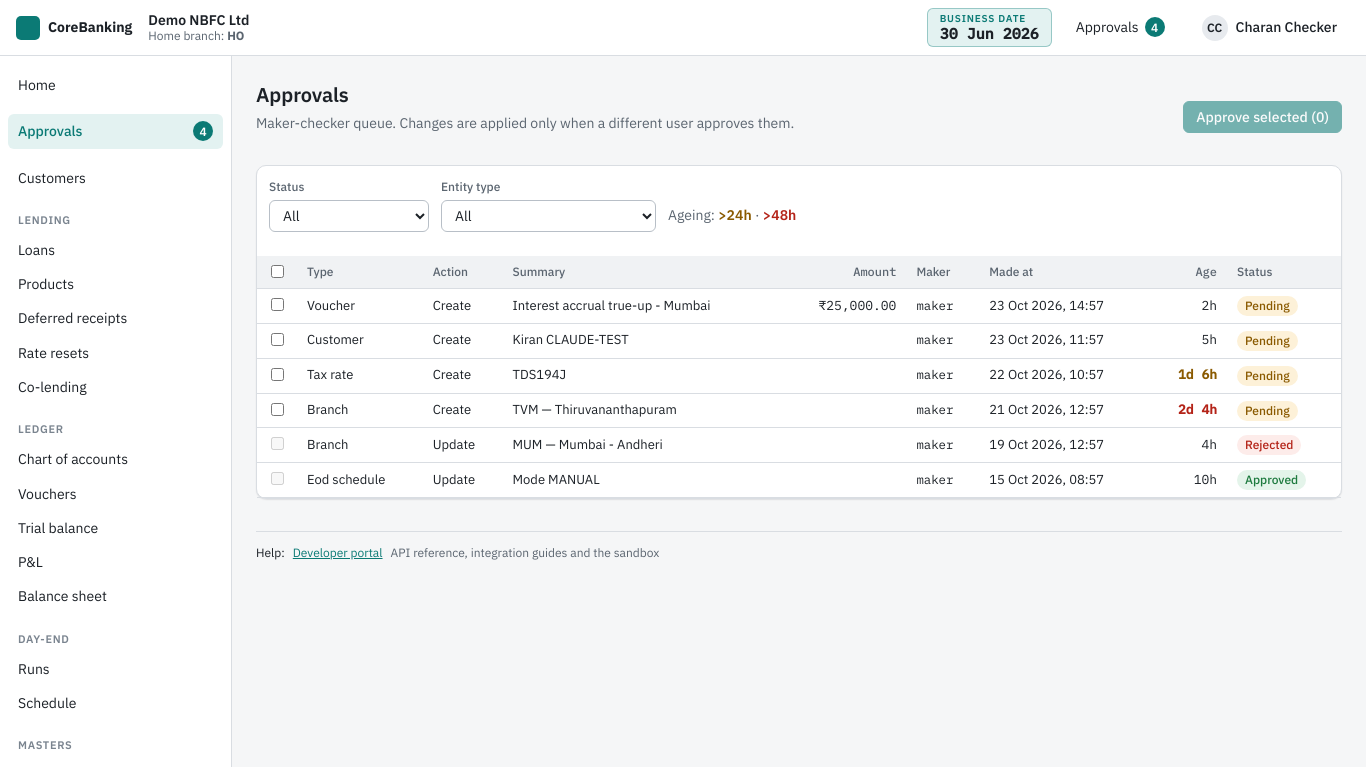
Test: approvals queue › requires a note to reject and highlights changed fields in the diff
Click the row named "Branch Update request by maker" at (799, 445), box top-left (257, 428), bottom-right (1341, 463)
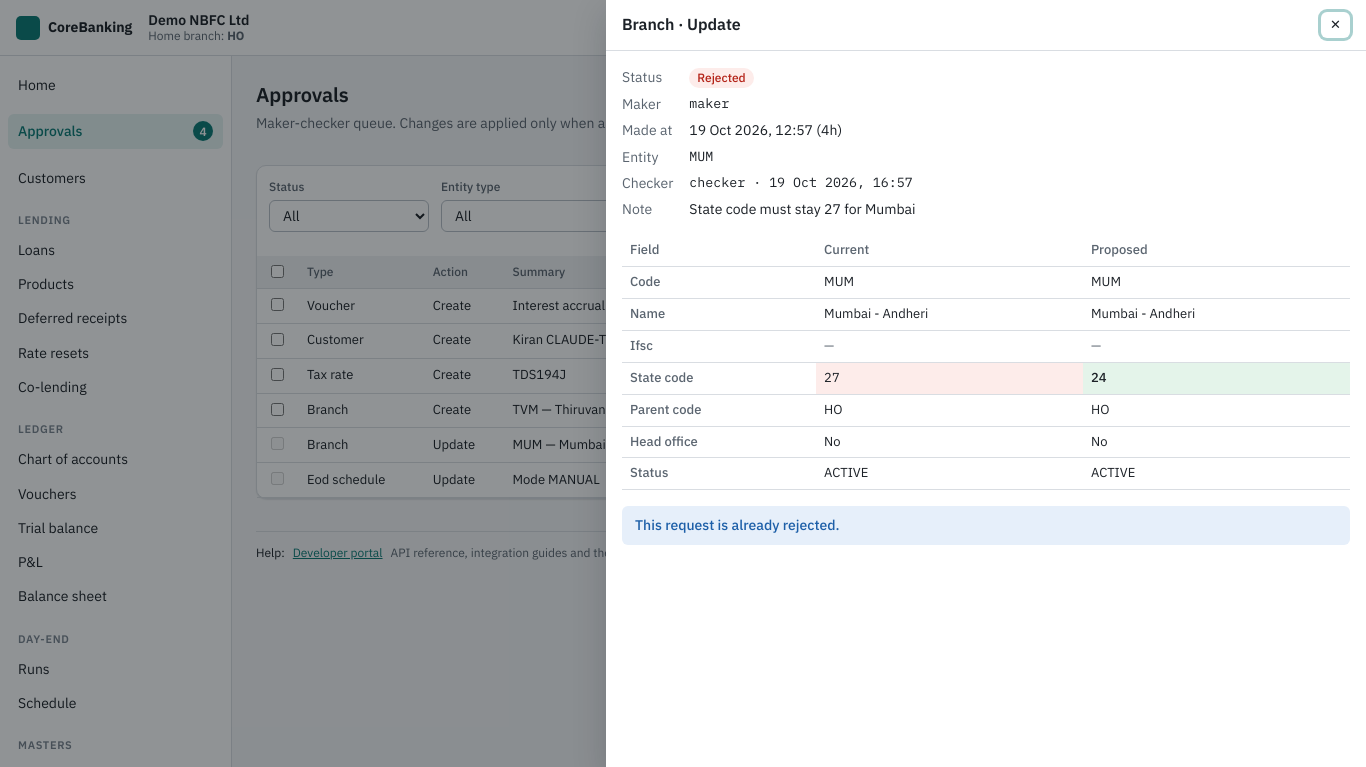
Press Escape
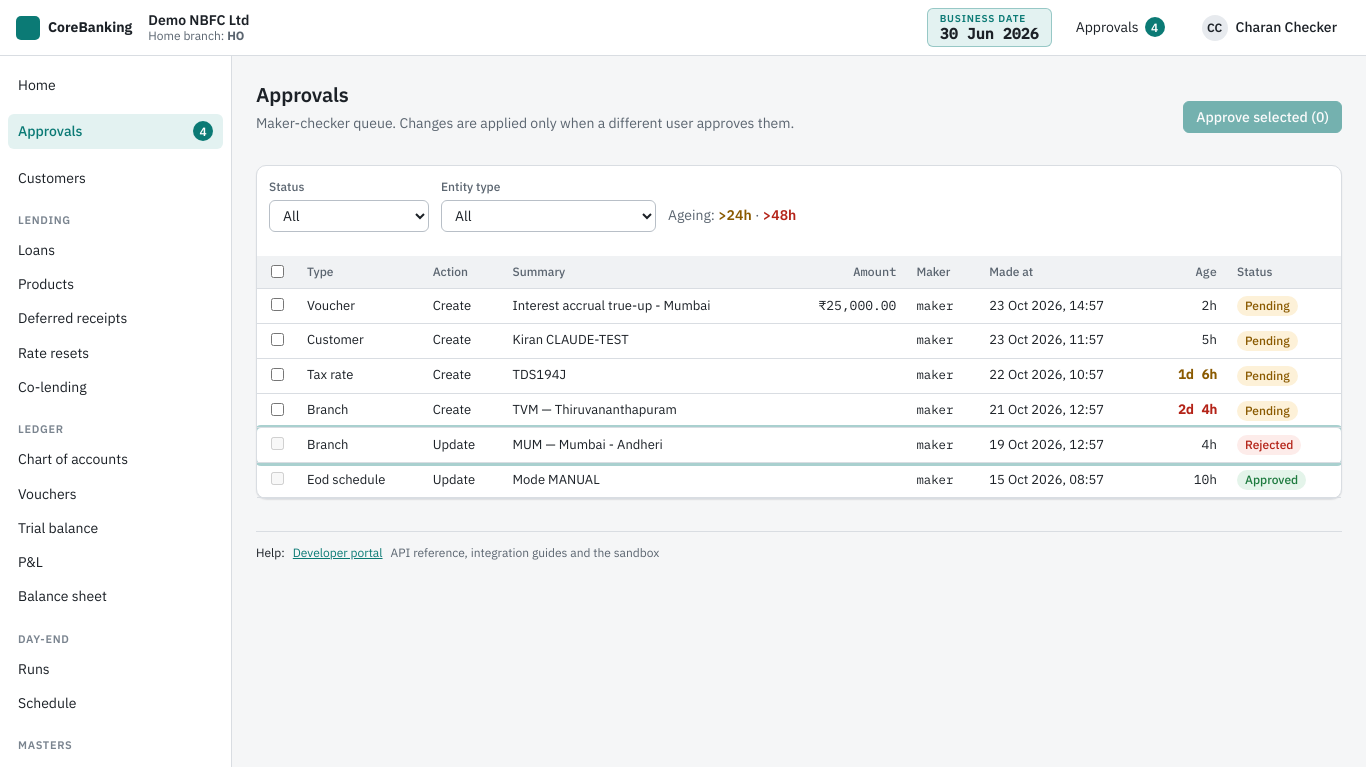
Click the row named "Branch Create request by maker" at (799, 410), box top-left (257, 393), bottom-right (1341, 428)
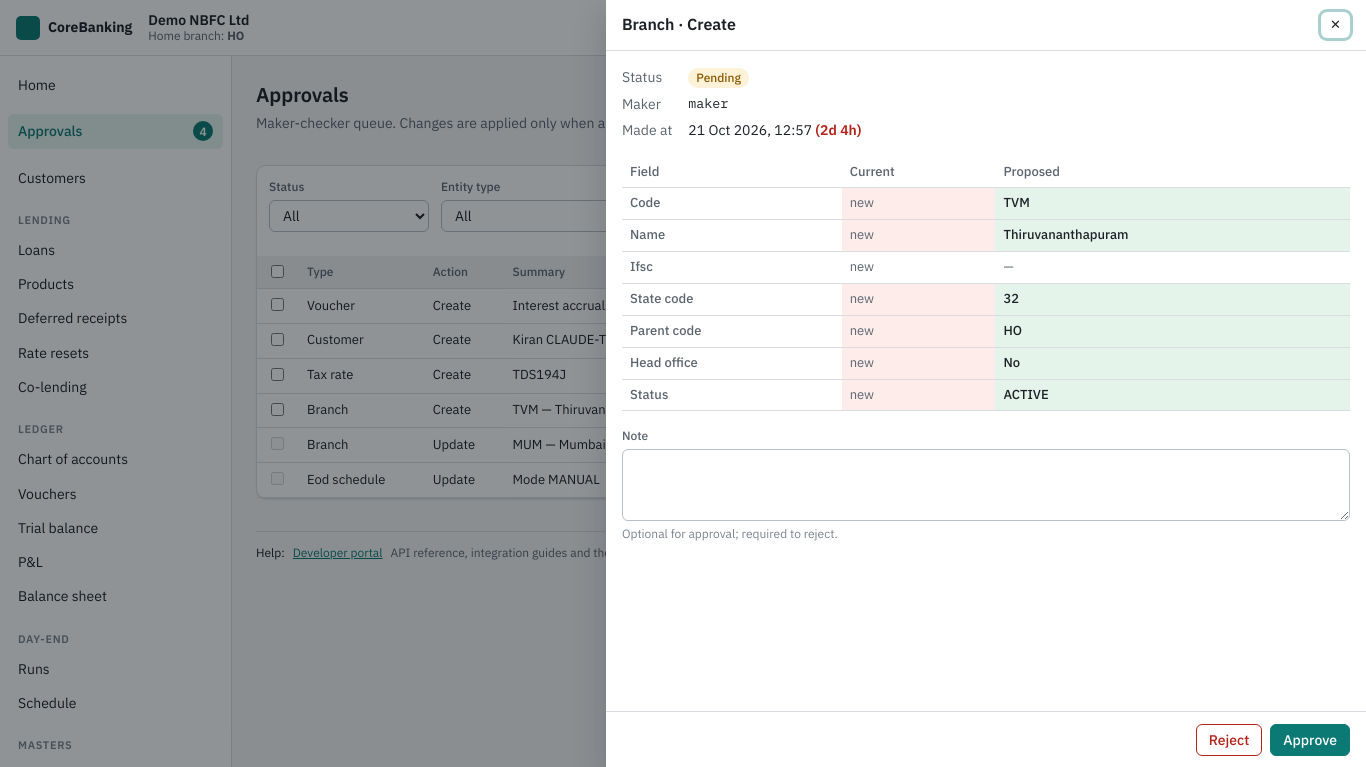
Click the button "Reject" at (1229, 740), box top-left (1196, 724), bottom-right (1262, 756)
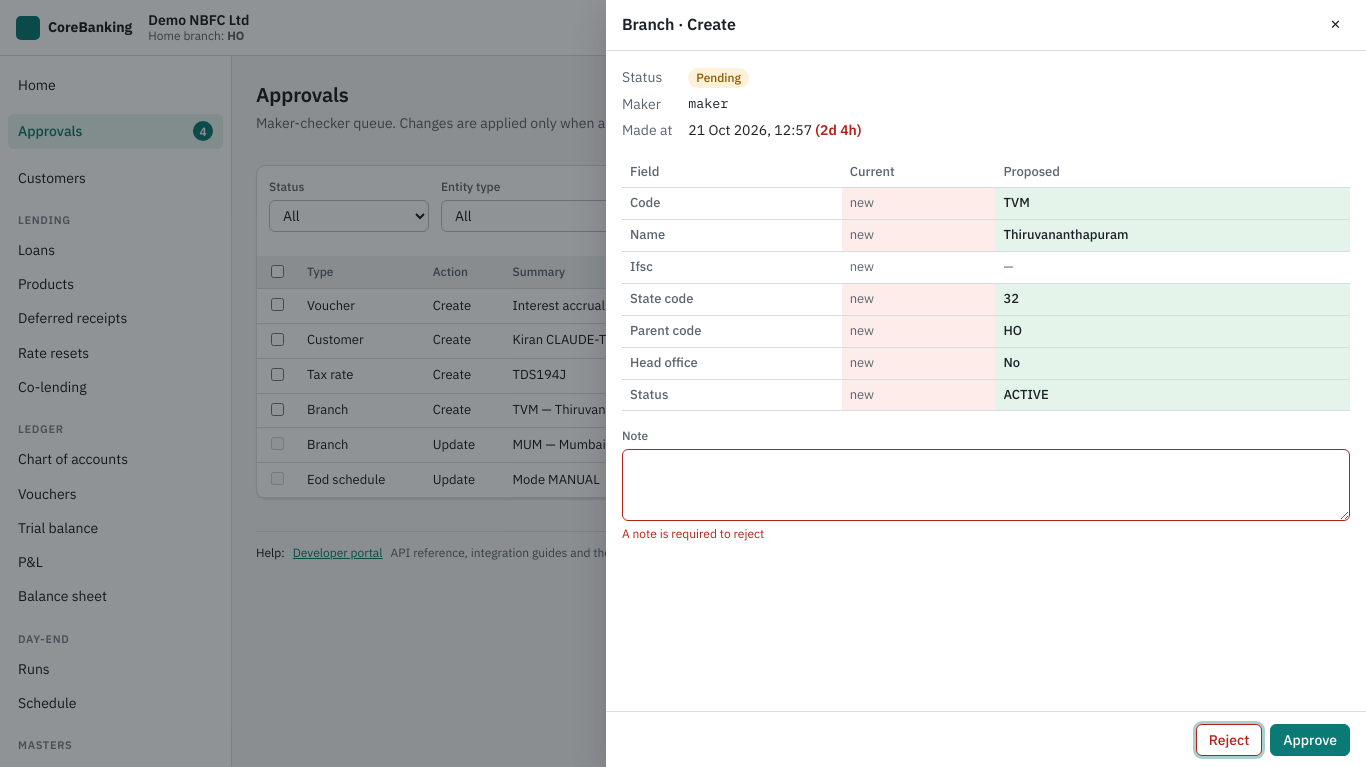
Now the message reads "A note is required to reject", box top-left (622, 526), bottom-right (764, 541)
Type "Duplicate of existing TVM proposal" into the text box labelled "Note" at (986, 485), box top-left (622, 449), bottom-right (1350, 521)
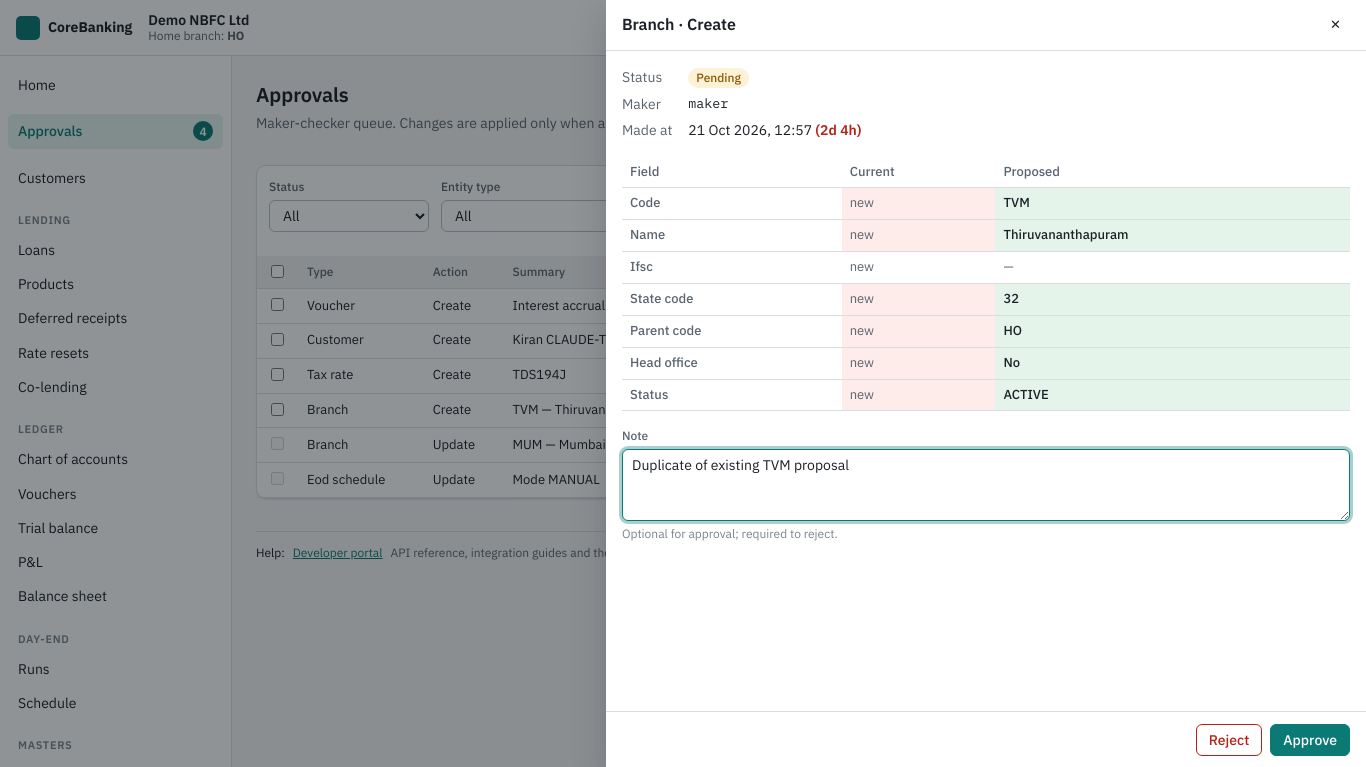
Click the button "Reject" at (1229, 740), box top-left (1196, 724), bottom-right (1262, 756)
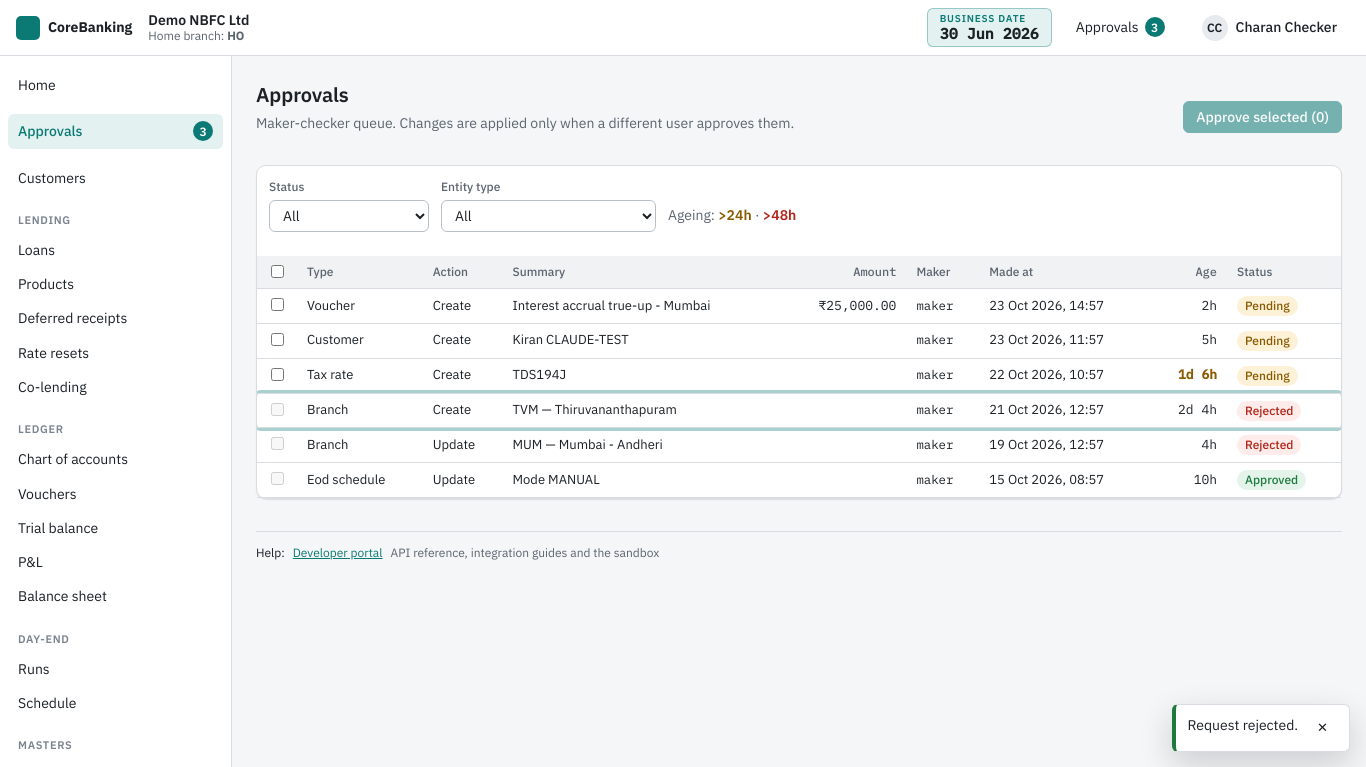
Now the text "Request rejected." is shown, box top-left (1188, 715), bottom-right (1298, 735)
